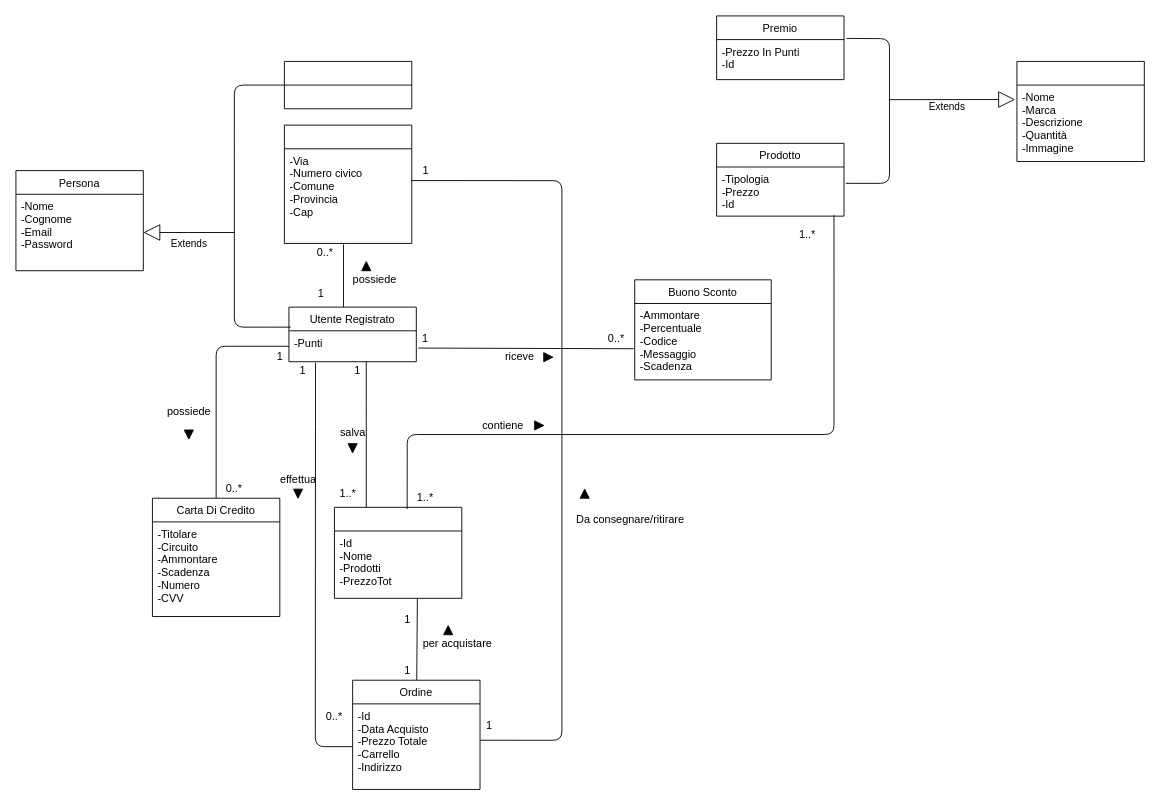
Image size: 1160x808. Some labels were removed from this diagram. Each missing label, with the box of its shape:
Amministratore: (283, 61, 412, 109)
Articolo: (1016, 61, 1144, 162)
Carrello: (334, 506, 462, 598)
Indirizzo: (283, 124, 412, 243)
